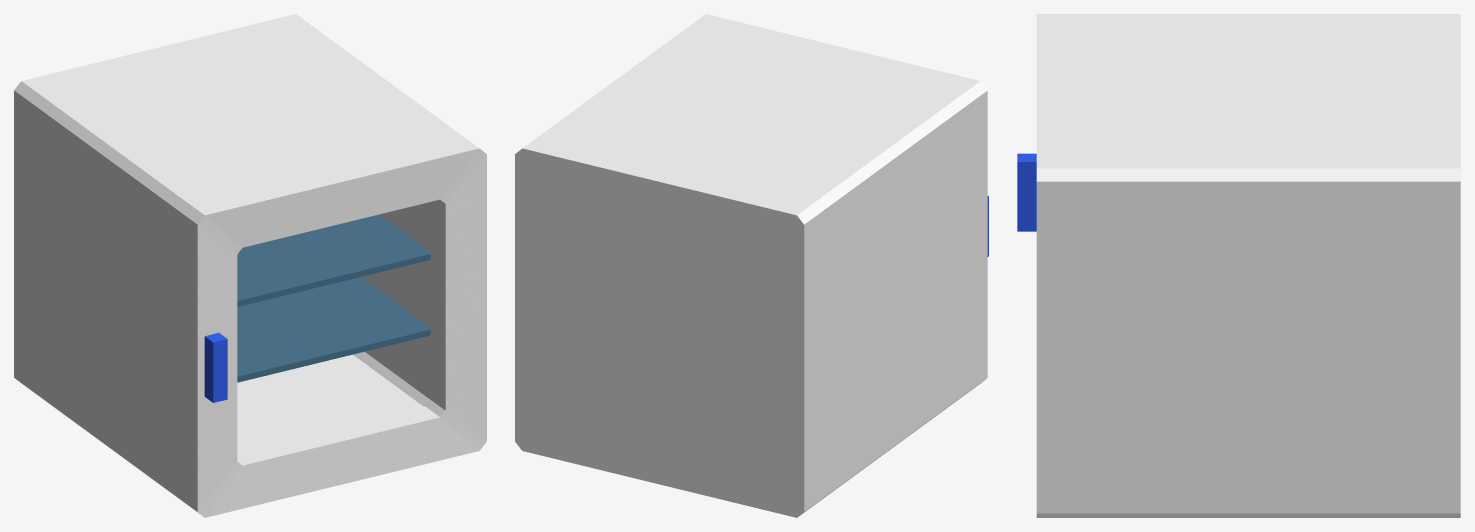
File: Incubator.fbx
The picture shows the model from 3 angles, left to right: view 1: azimuth 30°, elevation 25°; view 2: azimuth 150°, elevation 25°; view 3: azimuth 270°, elevation 25°; orthographic projection. The views are drawn at different scales.
Parts seen in each view (by area): view 1: Body, Door, shelf; view 2: Body, Door; view 3: Body, Door.
Part boxes in pixels (x1,y1,x2,y2): Body: (14, 14, 462, 503); Door: (181, 136, 486, 517); shelf: (237, 214, 430, 382); Body: (515, 26, 970, 517); Door: (689, 14, 988, 393); Body: (1075, 14, 1460, 517); Door: (1017, 14, 1075, 517).
Bounding box in the file's own units: 200 × 200 × 230.
